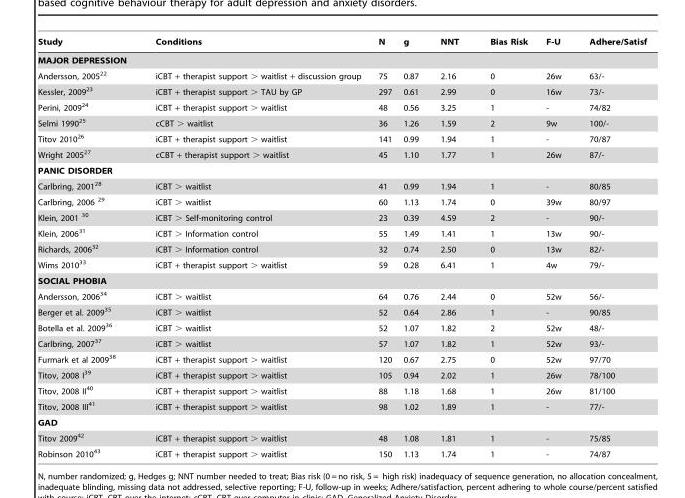table: (37, 37, 646, 458)
table column: (134, 37, 369, 458), (37, 37, 134, 458), (574, 37, 646, 458), (473, 37, 536, 458), (428, 37, 473, 458), (536, 37, 574, 458), (397, 37, 428, 458), (369, 37, 397, 458)
table column header: (37, 37, 646, 50)
table projected row header: (37, 50, 646, 67), (37, 162, 646, 177), (37, 414, 646, 429), (37, 273, 646, 287)
table row: (37, 50, 646, 67), (37, 256, 646, 273), (37, 397, 646, 414), (37, 67, 646, 83), (37, 98, 646, 114), (37, 114, 646, 130), (37, 130, 646, 146), (37, 146, 646, 162), (37, 177, 646, 193), (37, 193, 646, 209), (37, 224, 646, 240), (37, 240, 646, 256), (37, 287, 646, 303), (37, 303, 646, 319), (37, 319, 646, 335), (37, 350, 646, 366), (37, 366, 646, 382), (37, 429, 646, 445), (37, 83, 646, 98), (37, 162, 646, 177), (37, 209, 646, 224), (37, 335, 646, 350), (37, 382, 646, 397), (37, 414, 646, 429), (37, 273, 646, 287), (37, 37, 646, 50), (37, 445, 646, 458)
